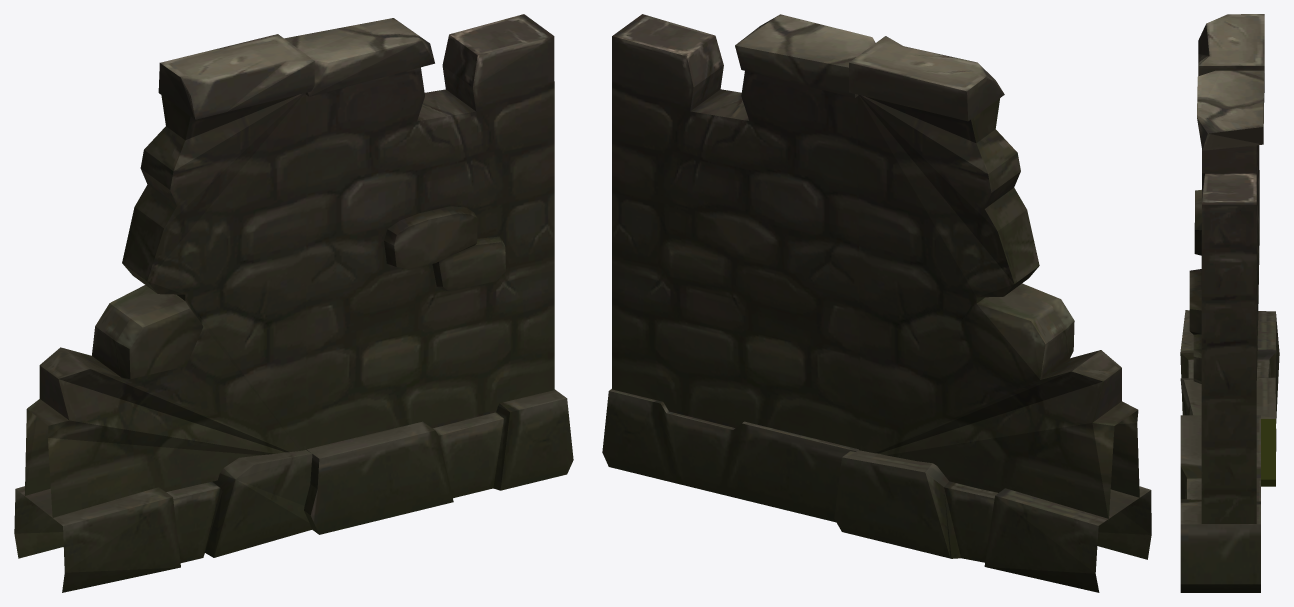
The model's file is humgraveyard_straight_03.fbx.
3 renders of one model, left to right at view 1: azimuth 30°, elevation 25°; view 2: azimuth 150°, elevation 25°; view 3: azimuth 270°, elevation 25°, orthographic. The views are drawn at different scales.
Visible parts, largest first — view 1: obj2.015; view 2: obj2.015; view 3: obj2.015.
Boxes of the visible parts, x1,y1,x2,y2 form: obj2.015: (14, 14, 573, 592); obj2.015: (602, 14, 1151, 592); obj2.015: (1180, 14, 1279, 592).
Size of the model in its own units: 4.59 by 4.01 by 0.8591.
